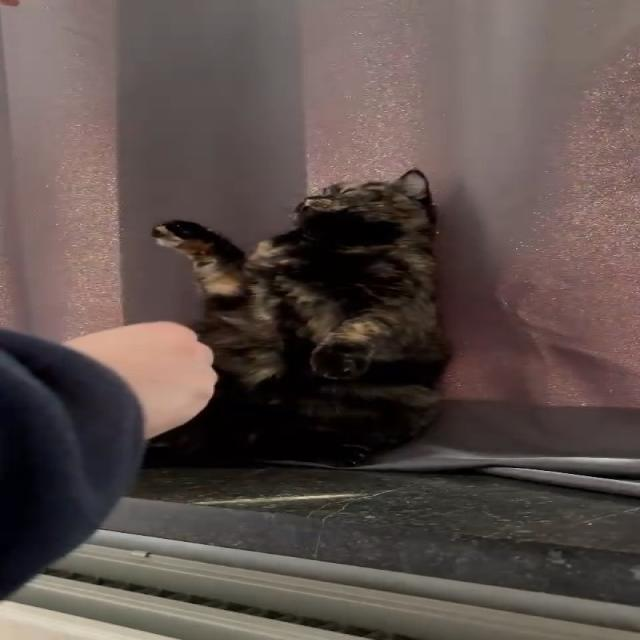authorized: (145, 167, 452, 468)
